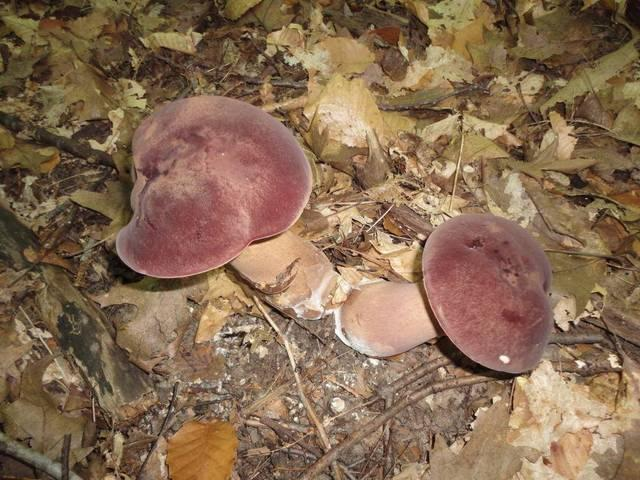Non-edible Mushroom: (114, 73, 344, 345), (344, 183, 570, 386)
